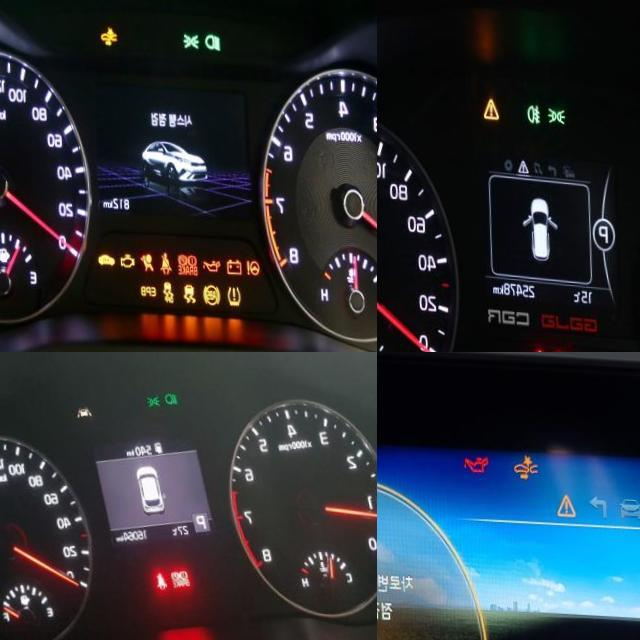Central Warning lamp: (555, 488, 575, 513), (480, 93, 498, 117)
FrontFogLight: (524, 99, 539, 121)
LaneCenteringOff: (74, 401, 90, 416)
Low beam: (203, 27, 220, 48), (162, 387, 177, 403)
SideLamp: (545, 101, 564, 120), (181, 28, 199, 46), (144, 390, 160, 404)
